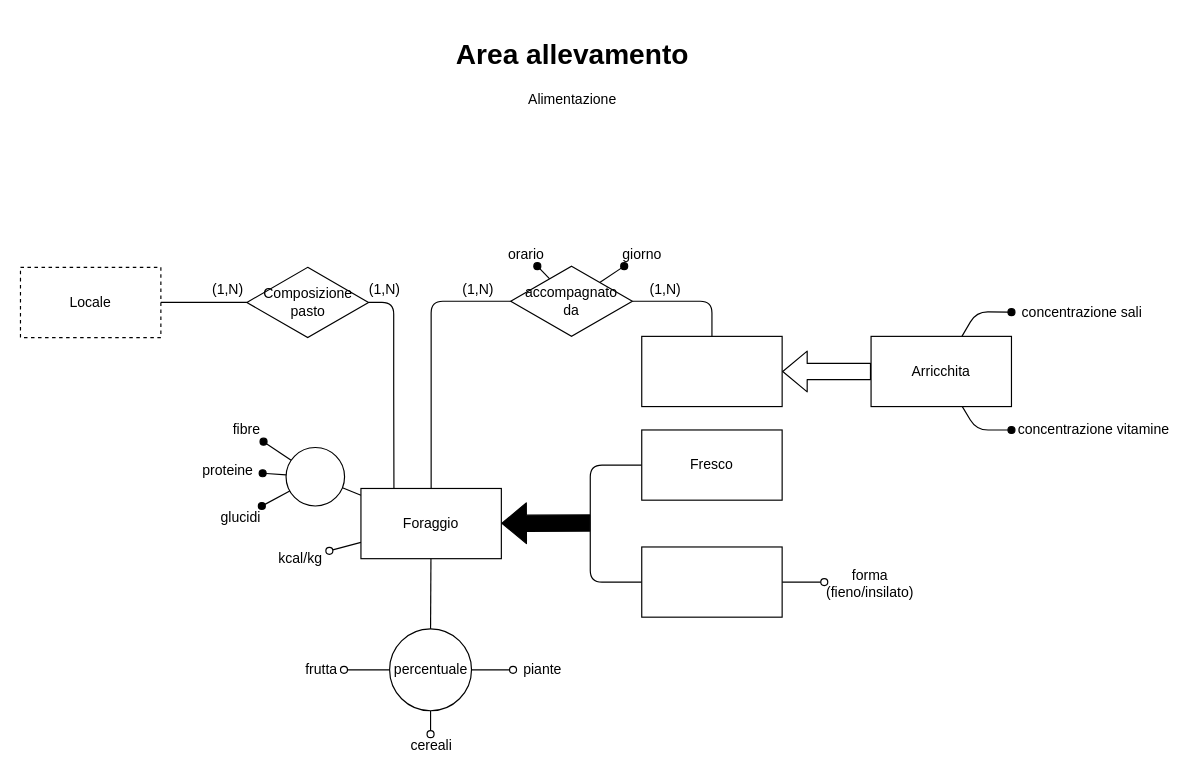
Some shapes in this 1196 by 777 pixel diagram are drawn without their labels. Here are the shapes that lost their labels. From the top down, the centre of each, then its label:
(711,371): Acqua
(315,476): quantità
(711,581): Conservato
